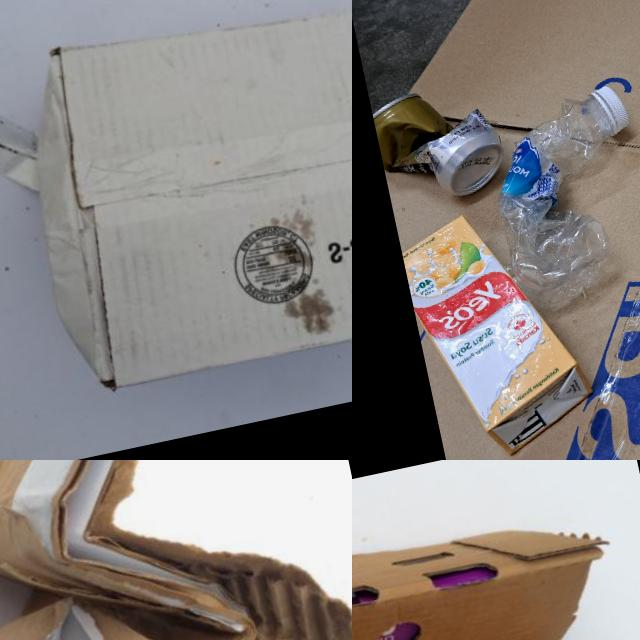caixinha: (396, 196, 600, 460)
garrafa plástica: (479, 78, 640, 315)
lata: (371, 76, 512, 210)
papelão: (0, 0, 352, 415), (352, 0, 640, 460), (0, 460, 352, 640), (352, 492, 640, 640)
tampa plástica: (590, 77, 636, 136)
